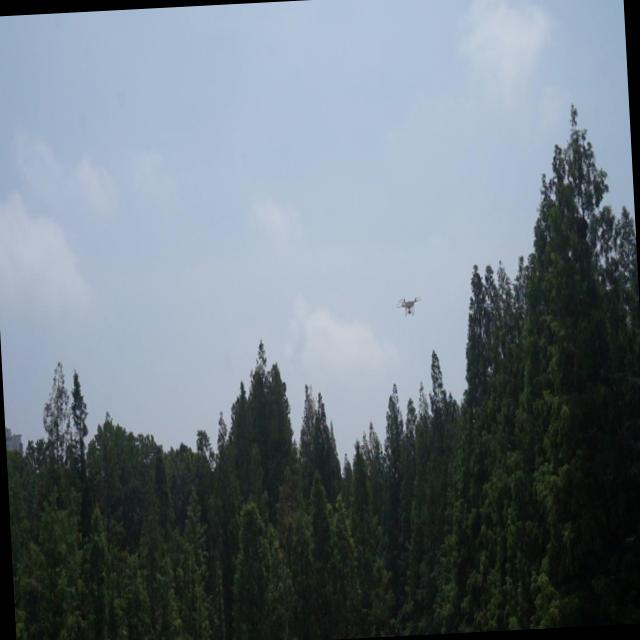drone: (396, 292, 423, 322)
